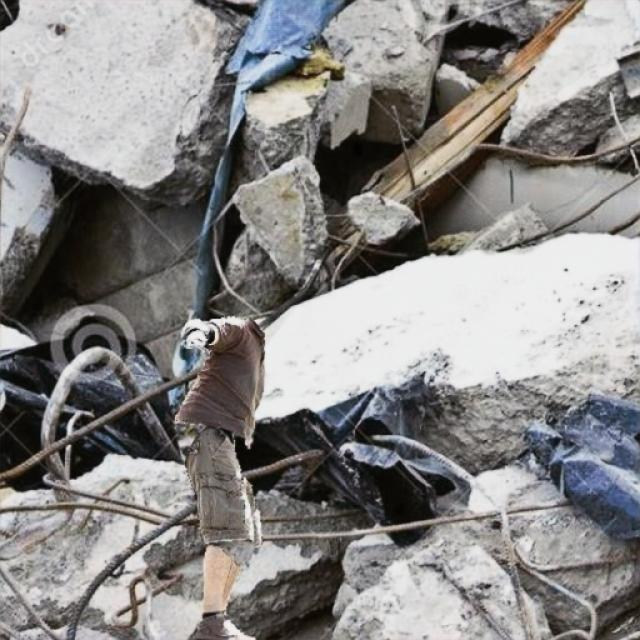Person in Rubble: (175, 316, 264, 639)
